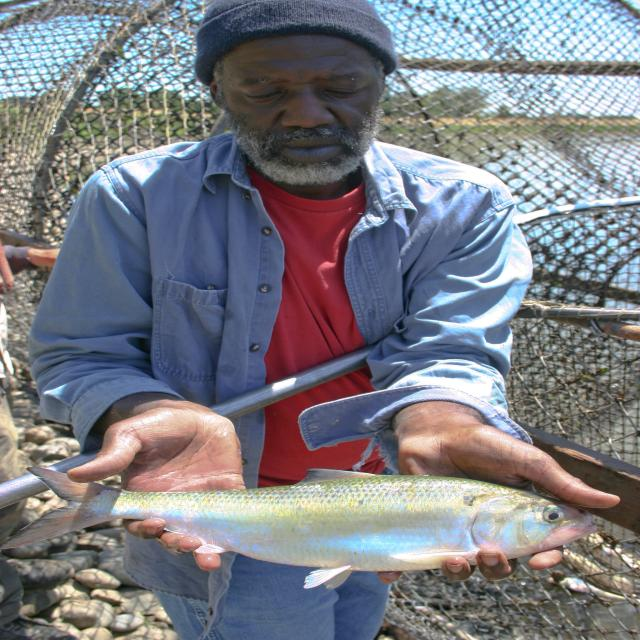Shad - American: (3, 468, 596, 588)
